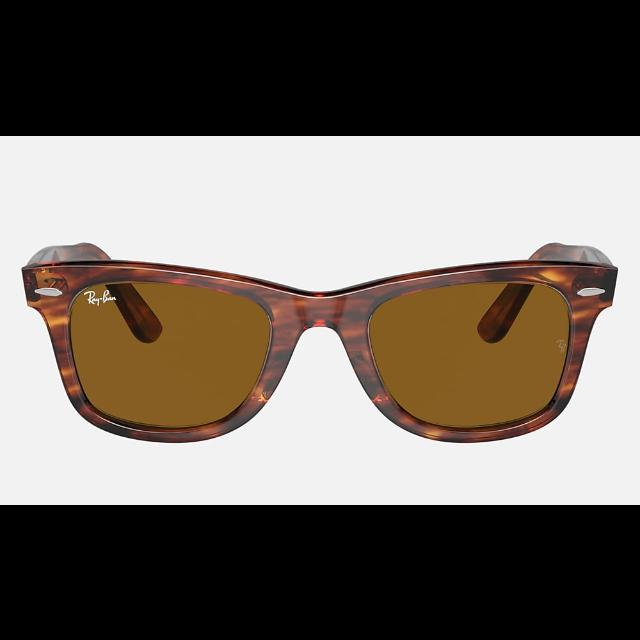Sunglasses: (21, 239, 618, 439)
